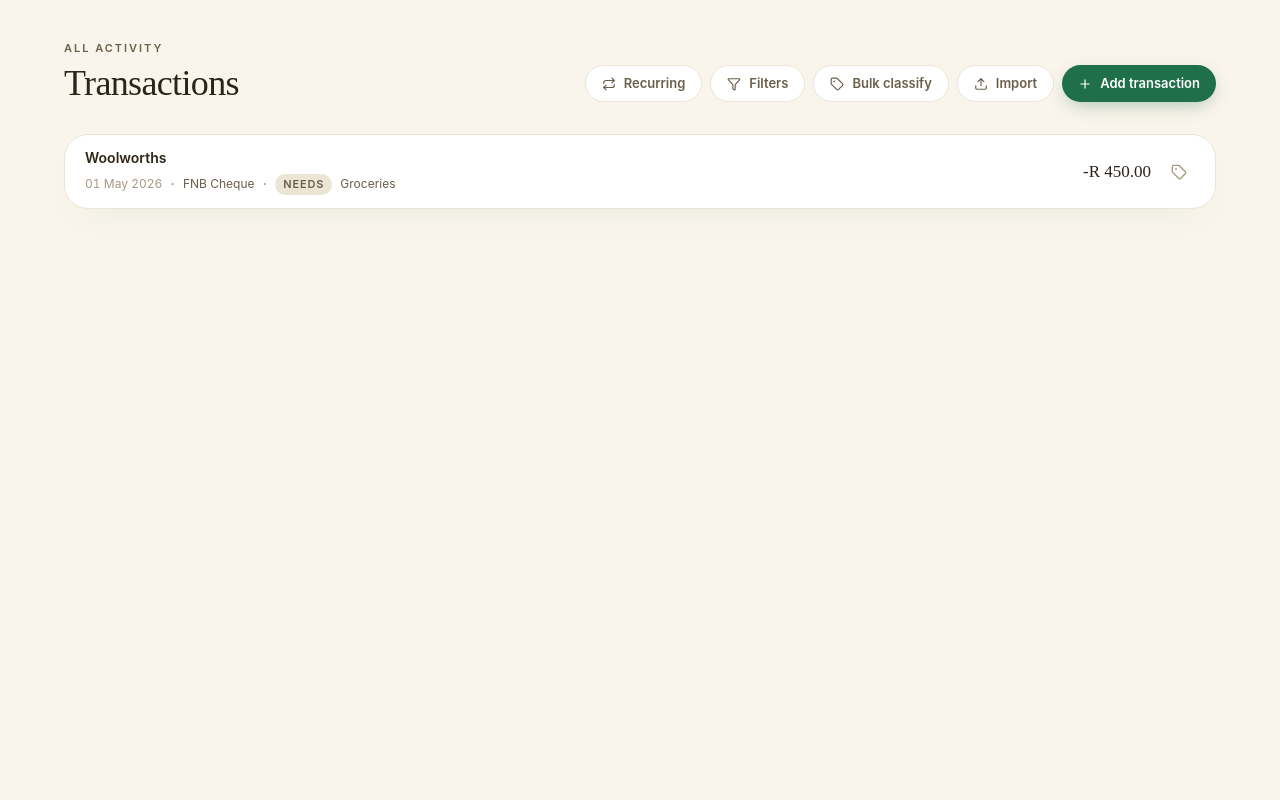
Test: TransactionsPage › opens the Add Transaction modal
The width and height of the screenshot is (1280, 800).
Click the button "Add transaction": (1139, 84) [1062,65,1216,102]
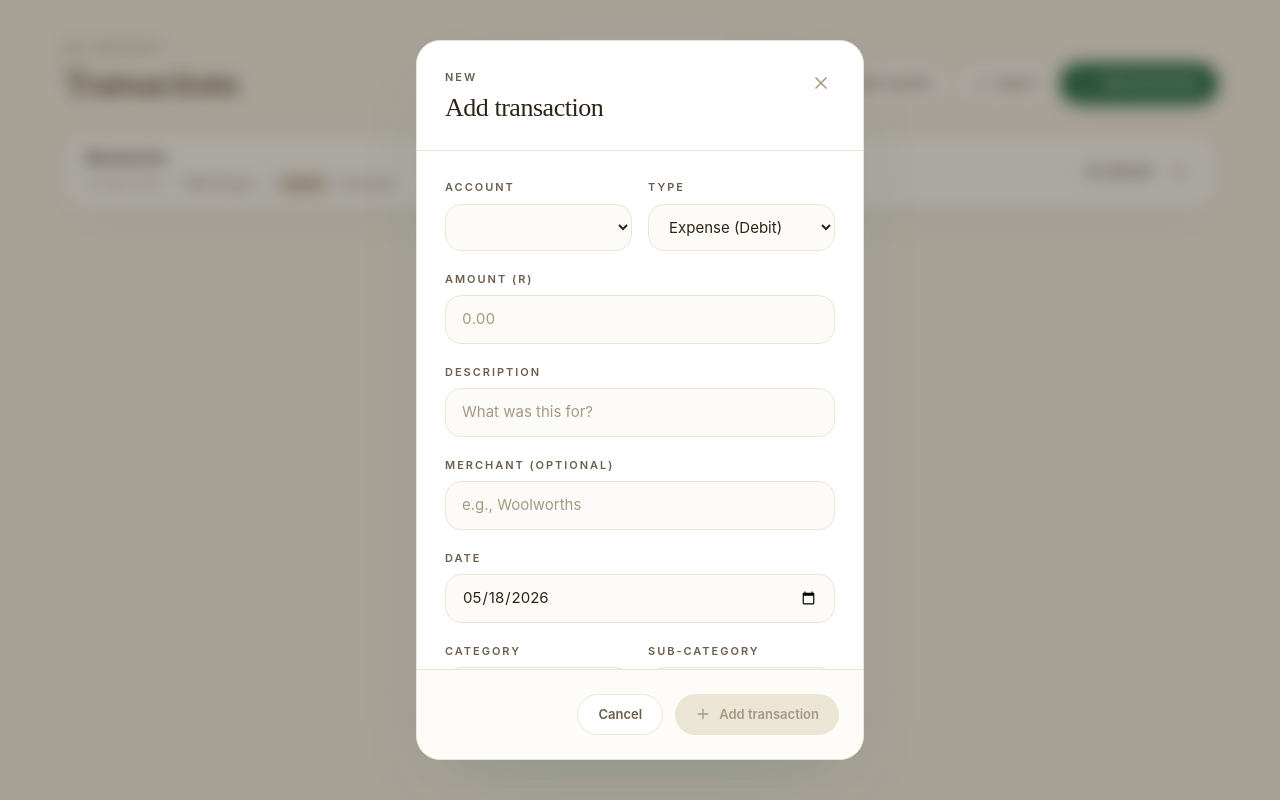
Now the heading "Add transaction" is shown, box [445,94,603,122]
